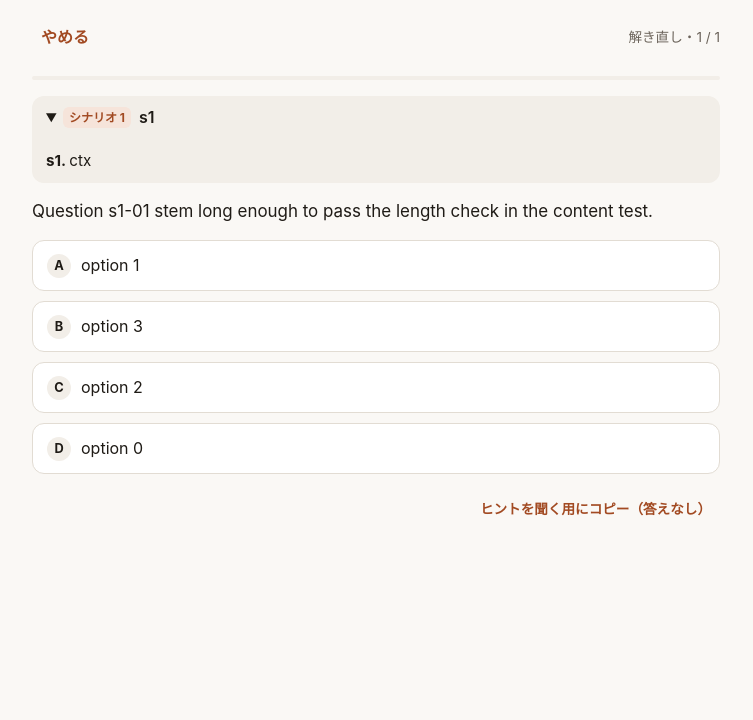
Test case: 前の日に正解した問題を今日正解すると「覚えた」に入ったと出る（#92）
Click the button "D option 0". click: point(112, 448)
box: [32,423,720,474]
(page scrolled)
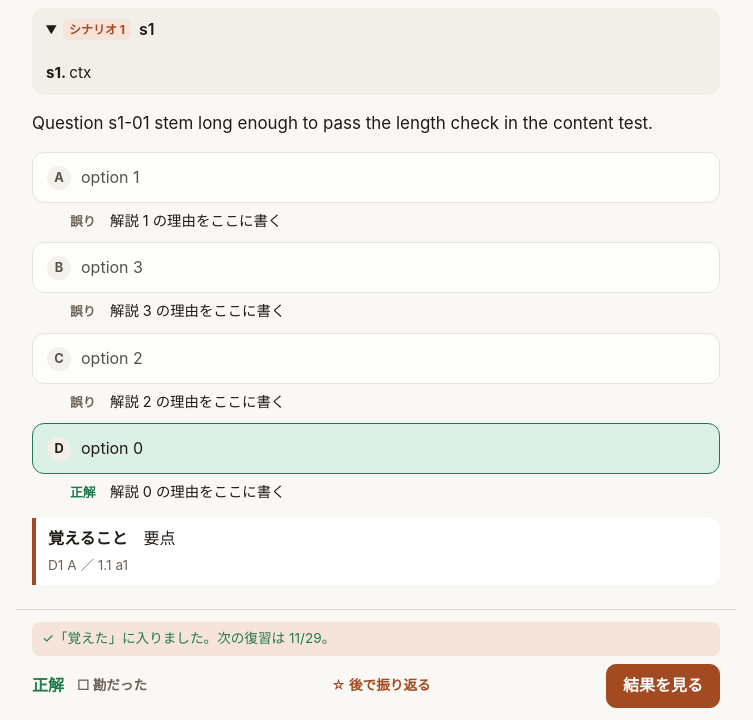
Result: the text with class "known-note" shows "「覚えた」に入りました" at [42,630,217,646]
